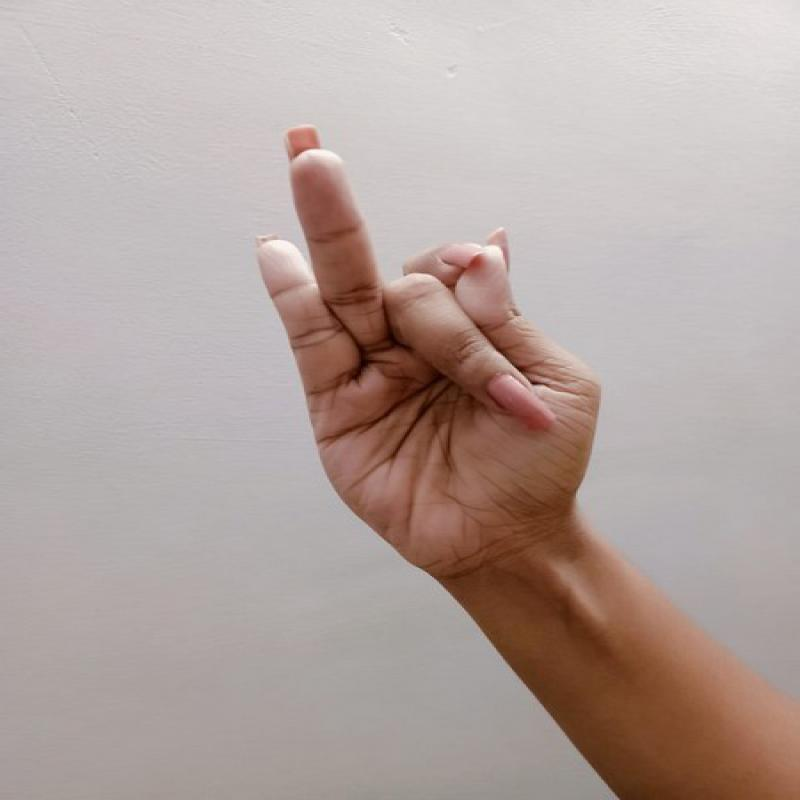Katakam: (231, 118, 623, 606)
